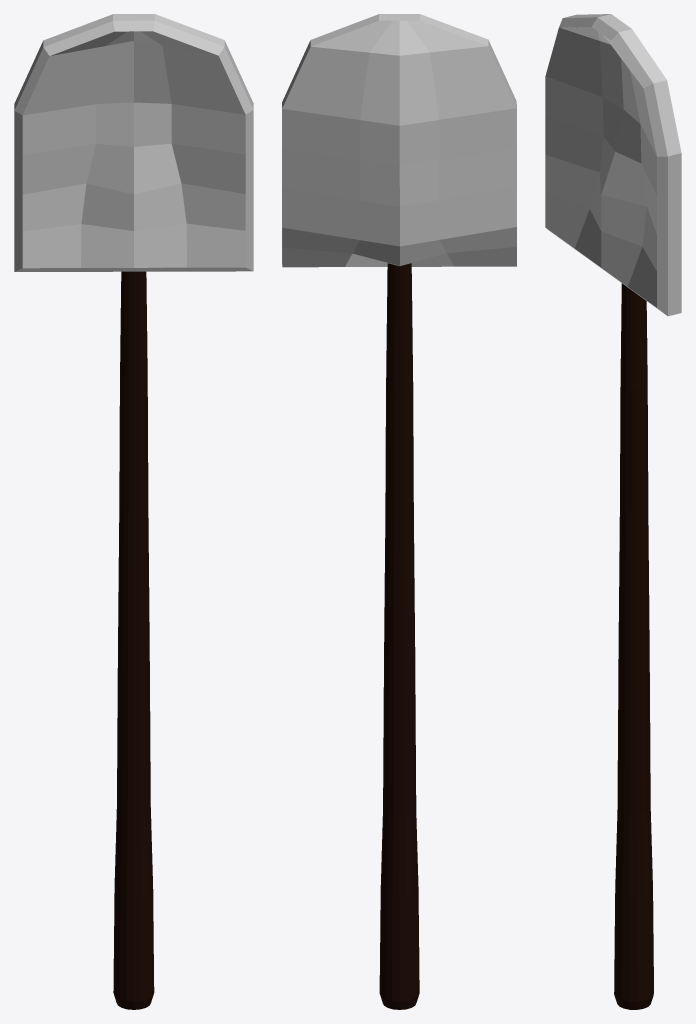
File: shovel.obj
The picture shows the model from 3 angles, left to right: view 1: azimuth 30°, elevation 25°; view 2: azimuth 210°, elevation 25°; view 3: azimuth 330°, elevation 25°; orthographic projection.
Visible parts, largest first — view 1: Cube, Cylinder; view 2: Cube, Cylinder; view 3: Cube, Cylinder.
Boxes of the visible parts, <box> form: Cube: <box>14,14,253,271</box>; Cylinder: <box>113,271,154,1009</box>; Cube: <box>282,14,516,267</box>; Cylinder: <box>379,263,419,1009</box>; Cube: <box>545,14,681,316</box>; Cylinder: <box>614,283,653,1009</box>.
Size of the model in its own units: 0.2243 by 1.14 by 0.1405.
